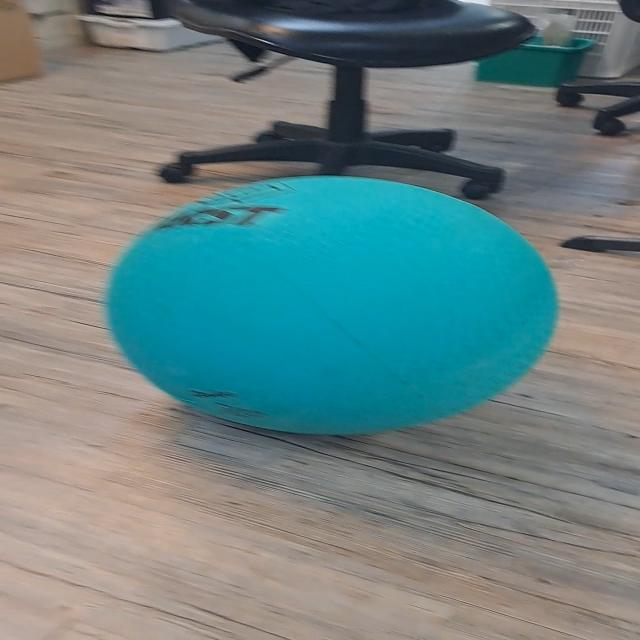ALGAE: (103, 173, 561, 437)
